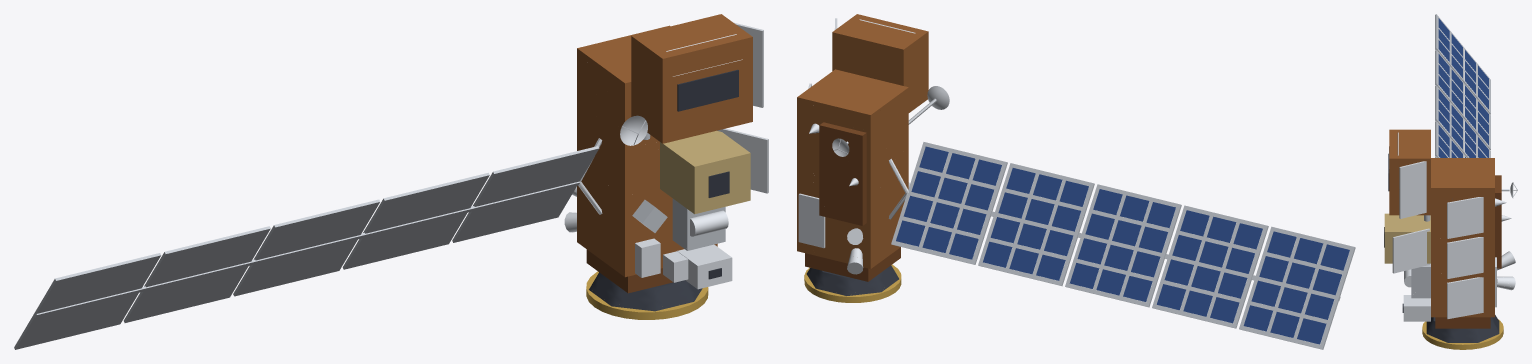
File: noaa21.glb
The picture shows the model from 3 angles, left to right: view 1: azimuth 30°, elevation 25°; view 2: azimuth 150°, elevation 25°; view 3: azimuth 270°, elevation 25°; orthographic projection. The views are drawn at different scales.
Parts seen in each view (by area): view 1: body, foil; view 2: solar-panel, foil, body; view 3: body, foil, solar-panel.
Part boxes in pixels (x1=…): body: x1=14, y1=22, x2=768, y2=349; foil: x1=577, y1=14, x2=752, y2=319; solar-panel: x1=896, y1=146, x2=1349, y2=344; foil: x1=797, y1=14, x2=928, y2=302; body: x1=798, y1=18, x2=1355, y2=349; body: x1=1384, y1=14, x2=1517, y2=342; foil: x1=1384, y1=129, x2=1503, y2=349; solar-panel: x1=1438, y1=18, x2=1488, y2=157.
Bounding box in the file's own units: 10.67 × 4.28 × 2.72.
